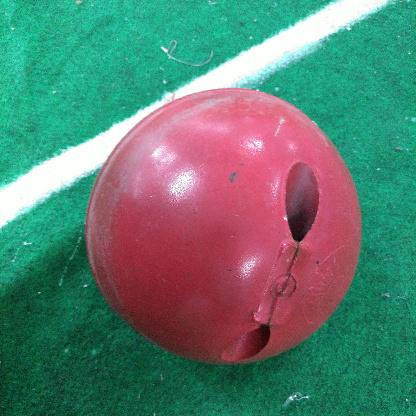red_buoy: (86, 86, 362, 366)
